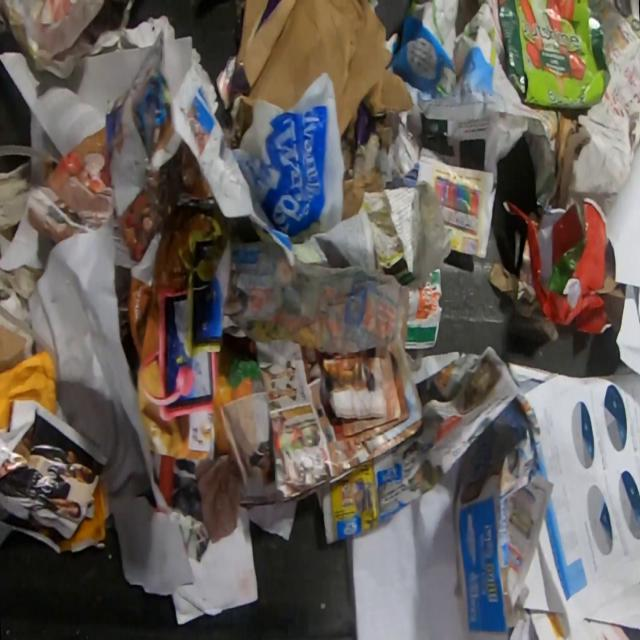cardboard: (222, 0, 413, 221), (498, 0, 611, 110), (94, 0, 193, 104), (406, 268, 444, 358), (488, 261, 518, 298), (596, 269, 626, 299), (395, 268, 413, 285)
rigid_plastic: (502, 196, 614, 335), (0, 144, 109, 214)
soft_plastic: (224, 180, 446, 376), (222, 73, 347, 254)
